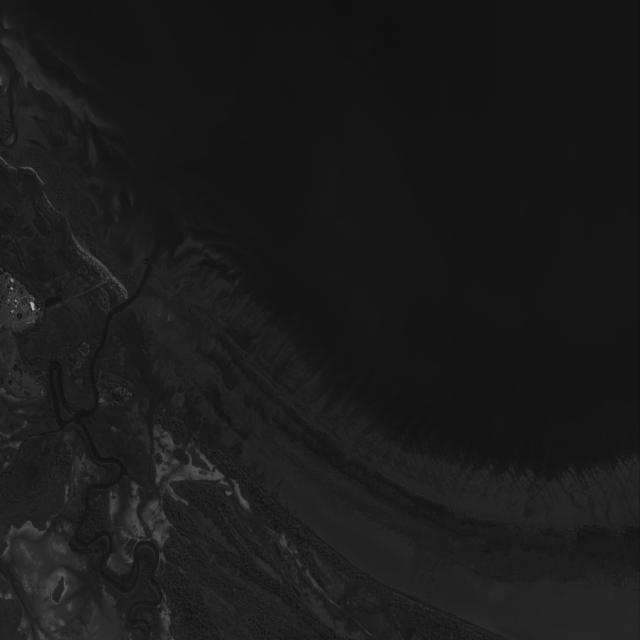storage-tank: (7, 283, 12, 288), (10, 278, 14, 283), (29, 296, 32, 300)
